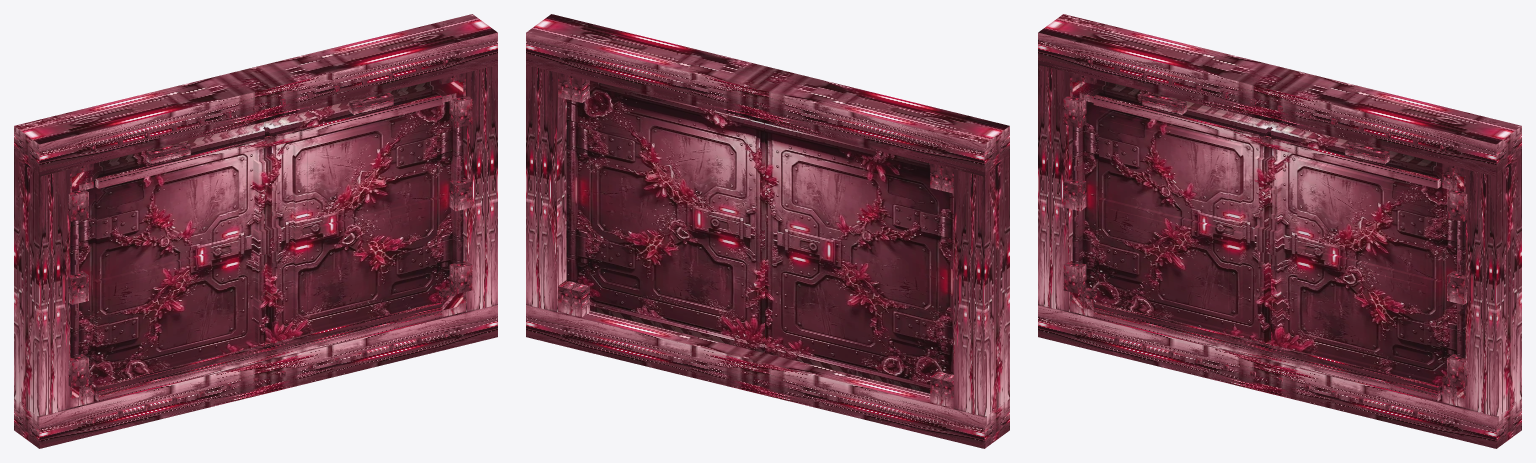
Rendered from hangar_kapi_kristal.glb.
The picture shows the model from 3 angles, left to right: view 1: azimuth 30°, elevation 25°; view 2: azimuth 150°, elevation 25°; view 3: azimuth 330°, elevation 25°; orthographic projection.
Visible parts, largest first — view 1: FRAME, DOOR_R, DOOR_L; view 2: FRAME, DOOR_R, DOOR_L; view 3: FRAME, DOOR_L, DOOR_R.
Boxes of the visible parts, left/top/right/bottom form: FRAME: left=14, top=14, right=497, bottom=448; DOOR_R: left=264, top=79, right=463, bottom=343; DOOR_L: left=70, top=122, right=270, bottom=398; FRAME: left=526, top=14, right=1009, bottom=448; DOOR_R: left=566, top=80, right=764, bottom=352; DOOR_L: left=765, top=123, right=953, bottom=393; FRAME: left=1038, top=14, right=1521, bottom=448; DOOR_L: left=1072, top=79, right=1271, bottom=343; DOOR_R: left=1265, top=122, right=1465, bottom=398.
Bounding box in the file's own units: 10.4 × 6.6 × 1.14.
Materials: 1 (1 with a texture image).
